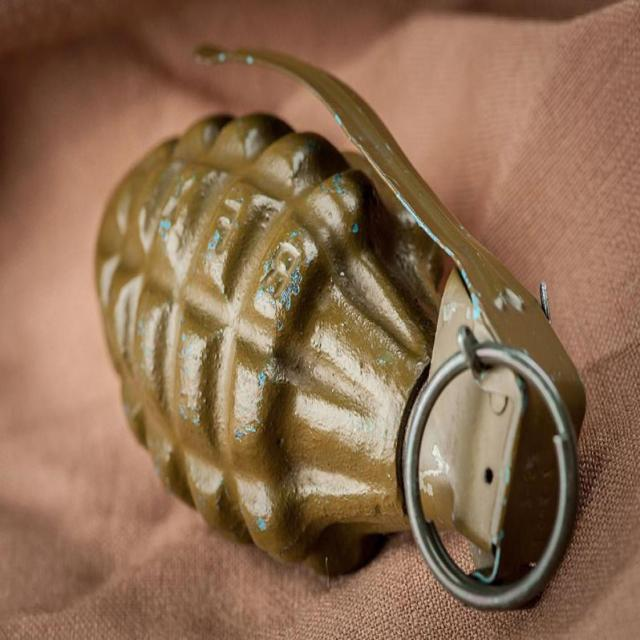grenade: (94, 48, 588, 614)
